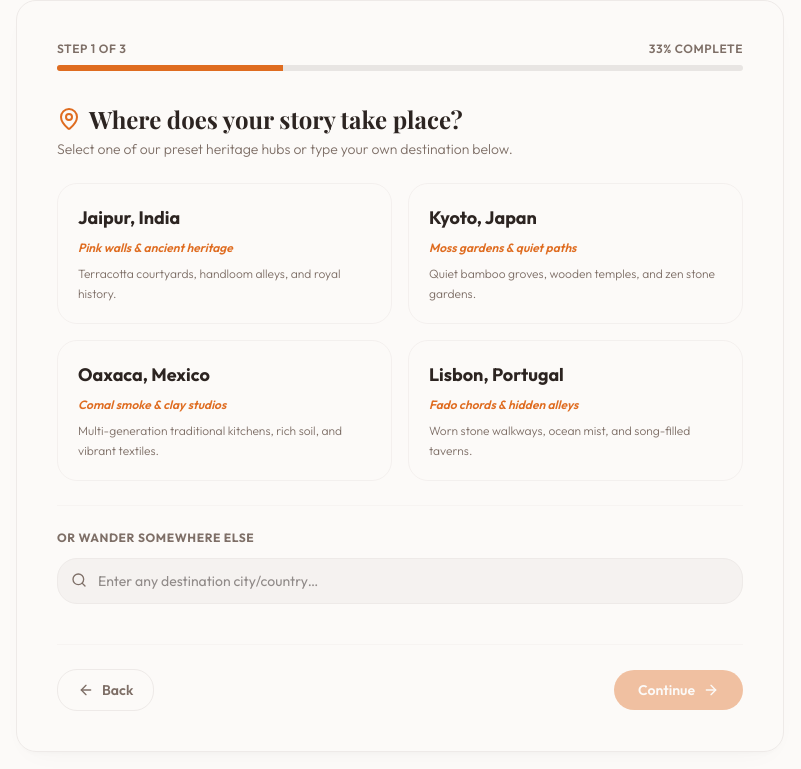
Scenario: ExperienceForm — Step 2 (Mood) › Continue enables after selecting a mood
This screenshot has width=801, height=769.
Type "Kyoto" into the field with placeholder "Enter any destination city/country…".
click(400, 581); type("Kyoto")  # box [57,558,743,604]
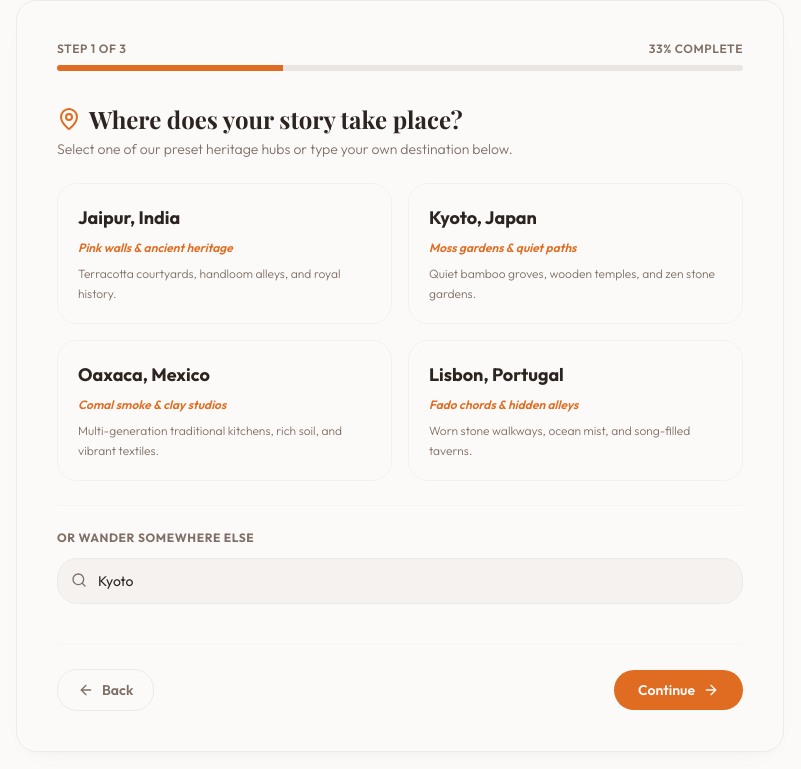
Click the button "Continue".
click(679, 690)  # box [614,670,743,710]
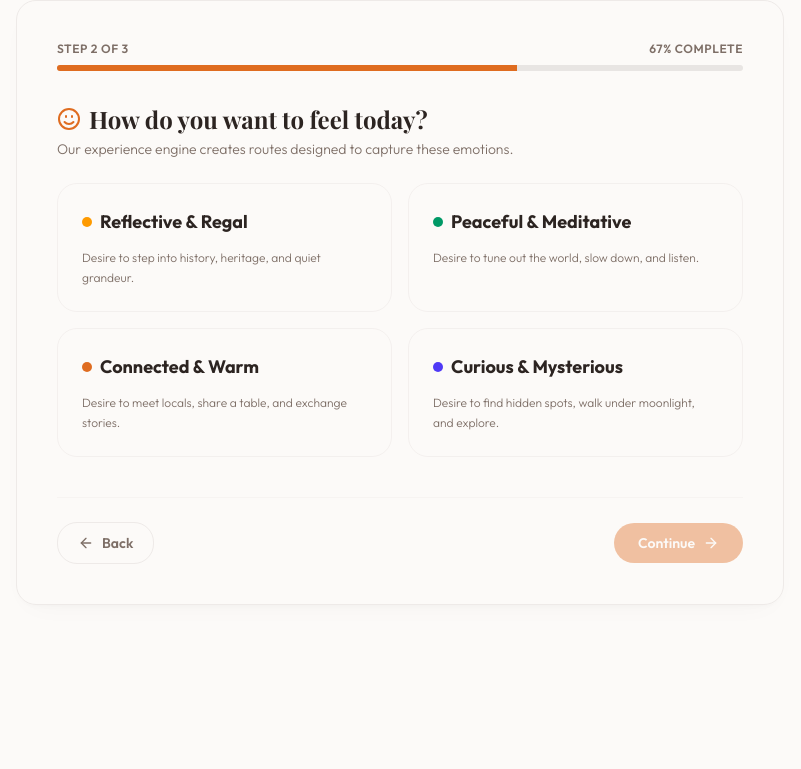
Click the text "Reflective & Regal".
click(165, 222)  # box [82,208,248,236]
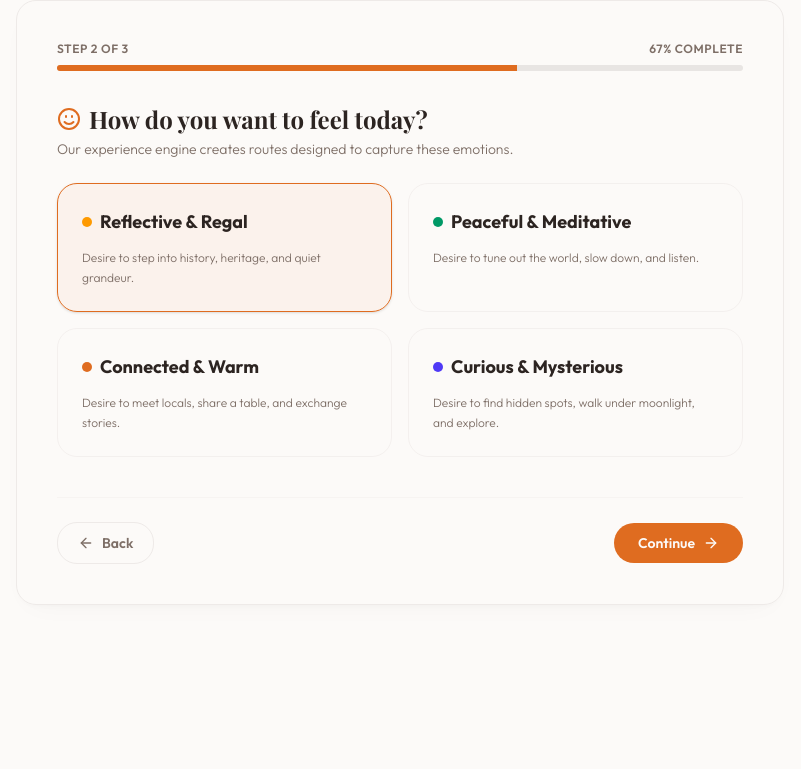
Expected: the button "Continue" is enabled, [614,523,743,563]
